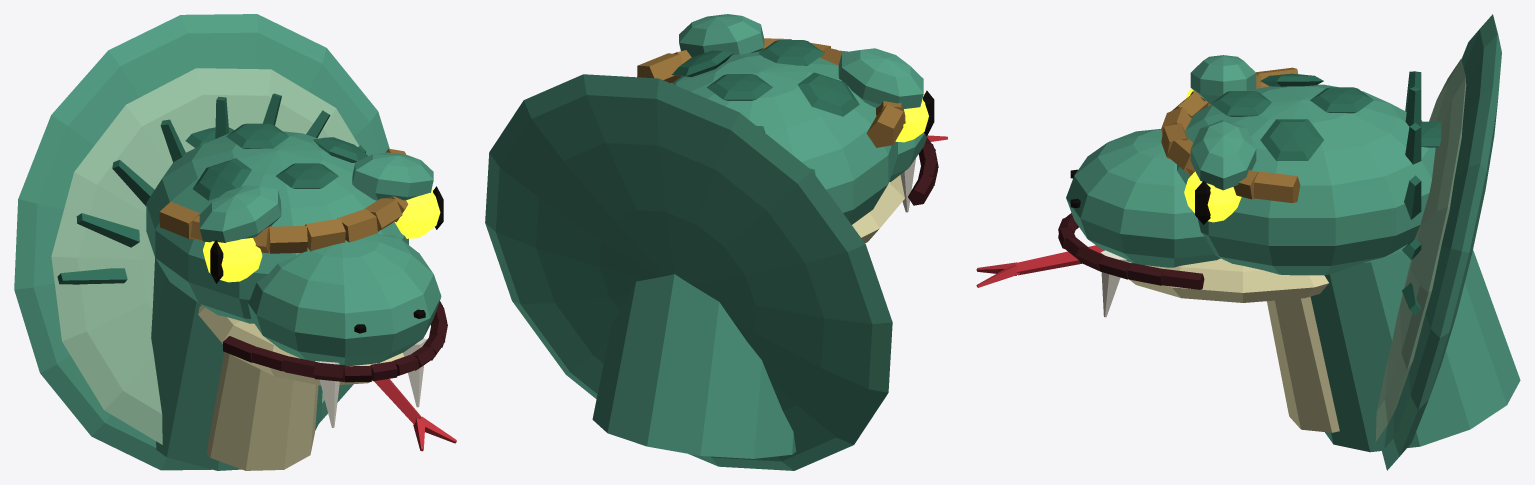
File: naga_head.glb
3 views of the same model, side by side, from view 1: azimuth 30°, elevation 25°; view 2: azimuth 150°, elevation 25°; view 3: azimuth 270°, elevation 25° (orthographic). The views are drawn at different scales.
Visible parts, largest first — view 1: naga_head; view 2: naga_head; view 3: naga_head.
Part boxes in pixels (x1=…): naga_head: x1=14, y1=14, x2=456, y2=470; naga_head: x1=485, y1=14, x2=947, y2=470; naga_head: x1=976, y1=14, x2=1520, y2=470.
Bounding box in the file's own units: 0.92 × 0.9313 × 1.11.
